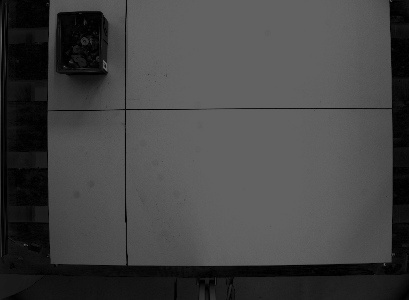klts: (53, 6, 110, 79)
